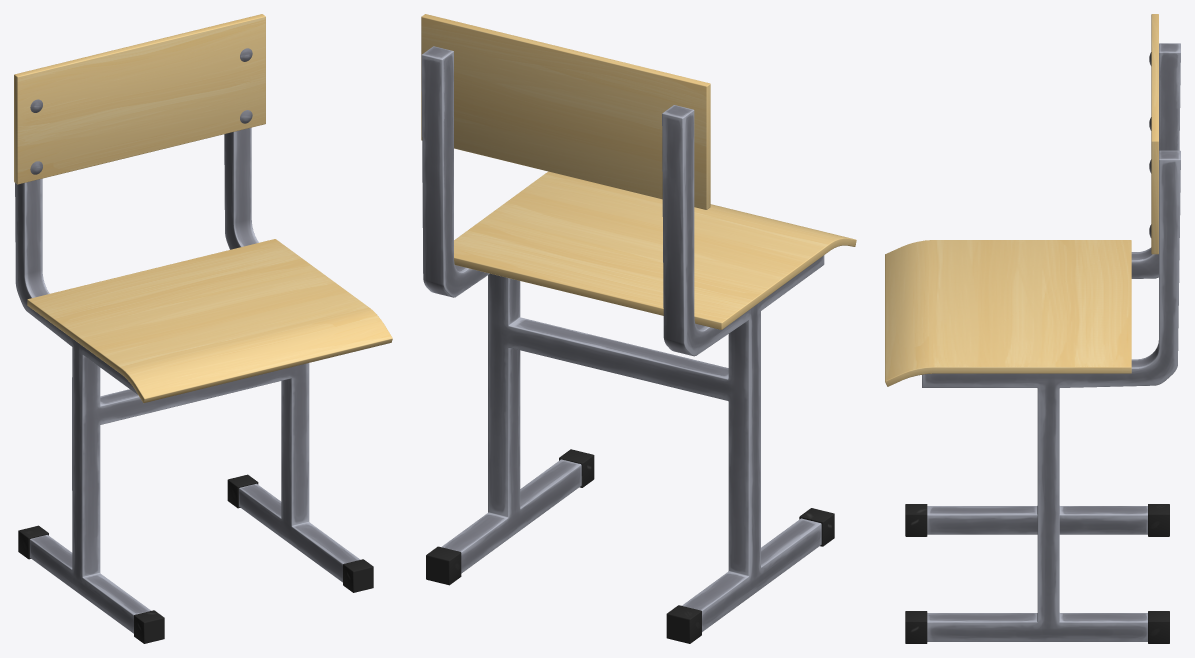
Rendered from chair.fbx.
The picture shows the model from 3 angles, left to right: view 1: azimuth 30°, elevation 25°; view 2: azimuth 150°, elevation 25°; view 3: azimuth 270°, elevation 25°; orthographic projection. The views are drawn at different scales.
Visible parts, largest first — view 1: Chair; view 2: Chair; view 3: Chair.
Part boxes in pixels (x1,y1,x2,y2): Chair: (14, 14, 392, 643); Chair: (421, 14, 856, 643); Chair: (885, 14, 1180, 643).
Size of the model in its own units: 54.68 by 102 by 53.69.
